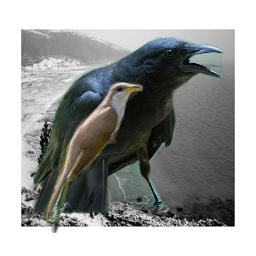Crow: (27, 37, 224, 233)
Cuckoo: (41, 82, 143, 223)
